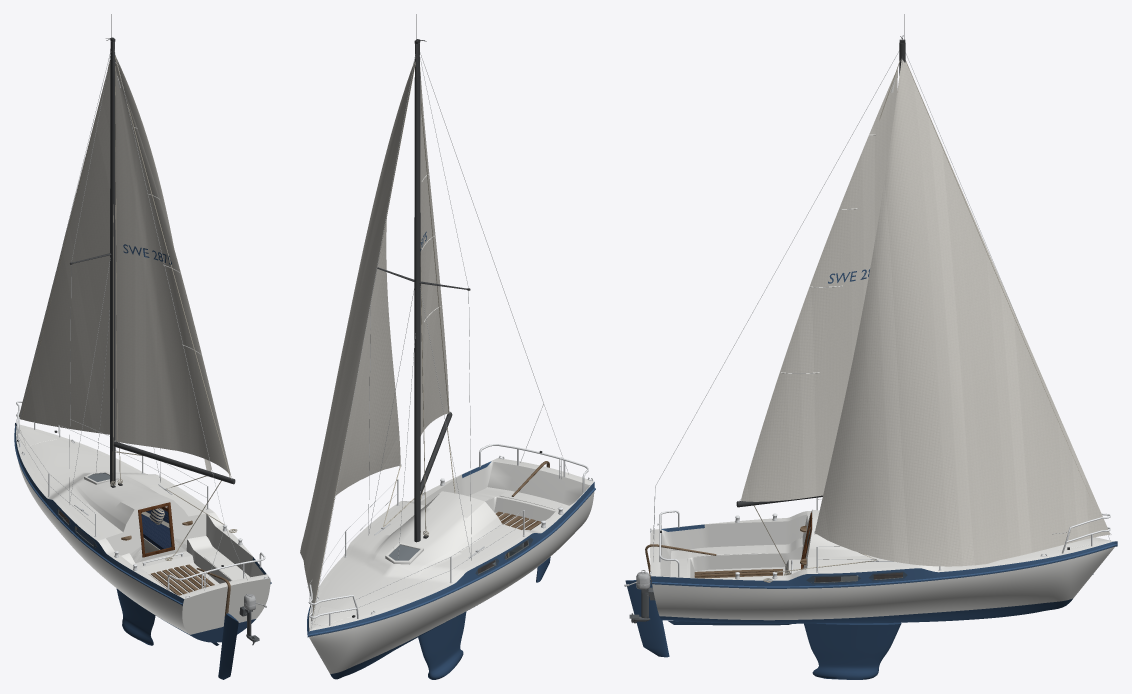
The model's file is maxi77.glb.
3 views of the same model, side by side, from view 1: azimuth 30°, elevation 25°; view 2: azimuth 150°, elevation 25°; view 3: azimuth 270°, elevation 25° (orthographic). The views are drawn at different scales.
Parts seen in each view (by area): view 1: mainsail, genoa, deck_forward, hull, deck_aft, mast, companionway, rigging, keel, cockpit_grating, running_rigging, rudder (+7 smaller); view 2: genoa, deck_forward, hull, deck_aft, mainsail, mast, rigging, keel, rubrail, running_rigging, cockpit_lids, lifelines (+3 smaller); view 3: genoa, mainsail, hull, deck_aft, deck_forward, keel, rudder, rubrail, cockpit_lids, rigging, windows.
Boxes of the visible parts, x1,y1,x2,y2 form: mainsail: (115, 67, 231, 476); genoa: (19, 55, 211, 471); deck_forward: (15, 423, 214, 552); hull: (18, 461, 270, 642); deck_aft: (97, 512, 270, 603); mast: (110, 41, 115, 484); companionway: (106, 500, 206, 563); rigging: (19, 50, 247, 590); keel: (116, 588, 155, 645); cockpit_grating: (149, 564, 214, 595); running_rigging: (110, 56, 230, 485); rudder: (218, 613, 238, 679); genoa: (300, 61, 415, 615); deck_forward: (307, 491, 533, 634); hull: (309, 492, 594, 679); deck_aft: (400, 458, 594, 546); mainsail: (420, 72, 449, 435); mast: (414, 43, 420, 542); rigging: (311, 52, 568, 628); keel: (418, 612, 466, 679); rubrail: (307, 488, 595, 637); running_rigging: (420, 99, 449, 536); cockpit_lids: (468, 490, 562, 529); lifelines: (307, 479, 523, 607); genoa: (814, 59, 1110, 566); mainsail: (740, 71, 896, 501); hull: (652, 547, 1114, 623); deck_aft: (650, 511, 807, 586); deck_forward: (804, 509, 1117, 585); keel: (804, 622, 901, 679); rudder: (625, 580, 669, 657); rubrail: (651, 544, 1117, 588); cockpit_lids: (671, 545, 766, 577); rigging: (653, 51, 1110, 562); windows: (806, 571, 907, 584).
Size of the model in its own units: 2.98 by 11.99 by 8.06.
39 materials, 18 textured.
